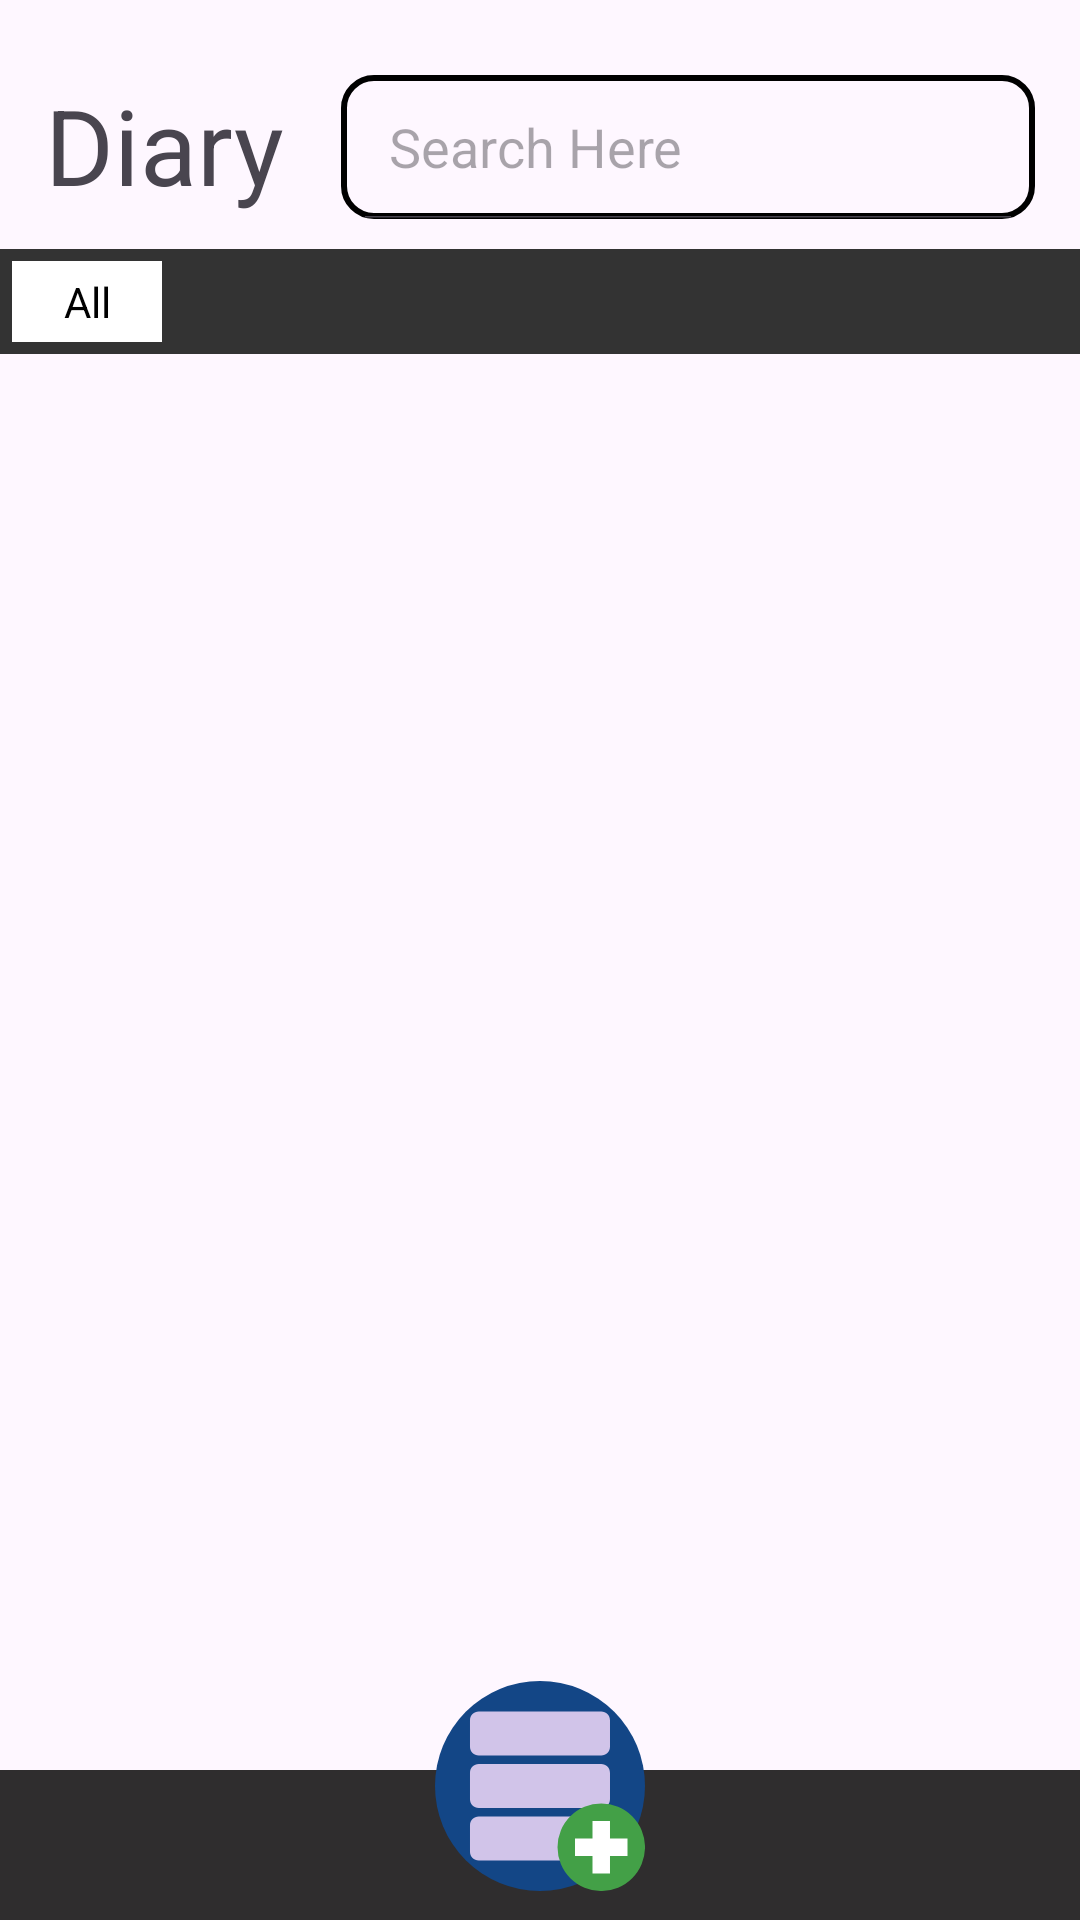

Point at icon controls on the screen. Image size 1080px x 1920px, points as (x=x, y=y).
add database: (x=540, y=1786)
